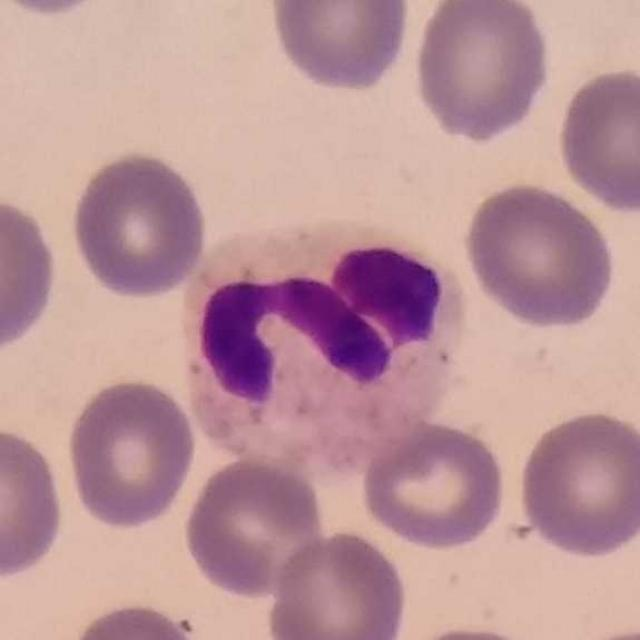Neutrophil: (183, 210, 468, 468)
RBC: (459, 178, 620, 333), (67, 146, 211, 302), (179, 454, 330, 602), (62, 374, 200, 533), (356, 417, 511, 552), (410, 0, 554, 145), (513, 406, 640, 561), (262, 525, 410, 640), (265, 0, 415, 96), (552, 62, 640, 216), (0, 421, 69, 584), (0, 189, 62, 360), (65, 597, 208, 640), (391, 621, 551, 640), (1, 0, 121, 19)
